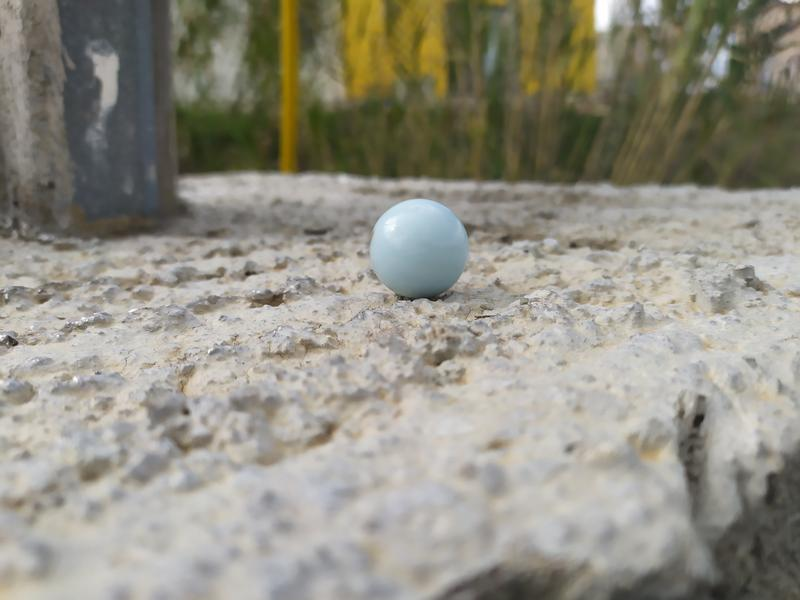Warning: (365, 196, 473, 301)
